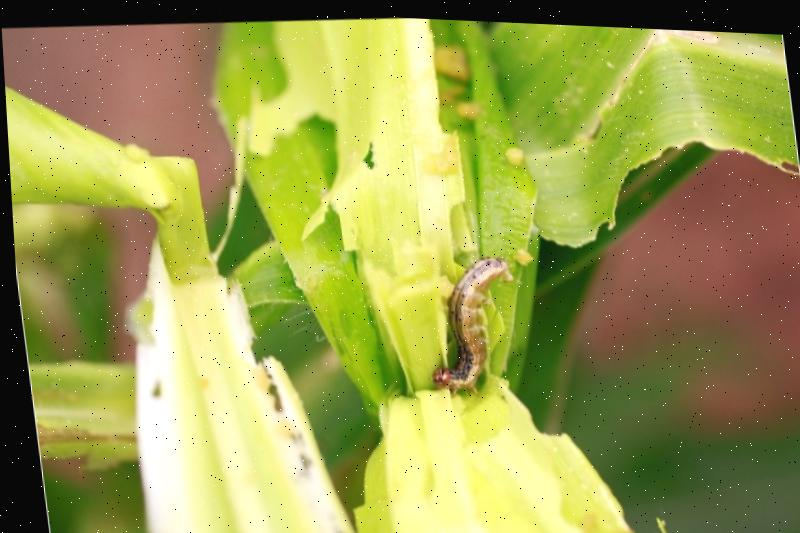fall-armyworm: (427, 253, 510, 391)
